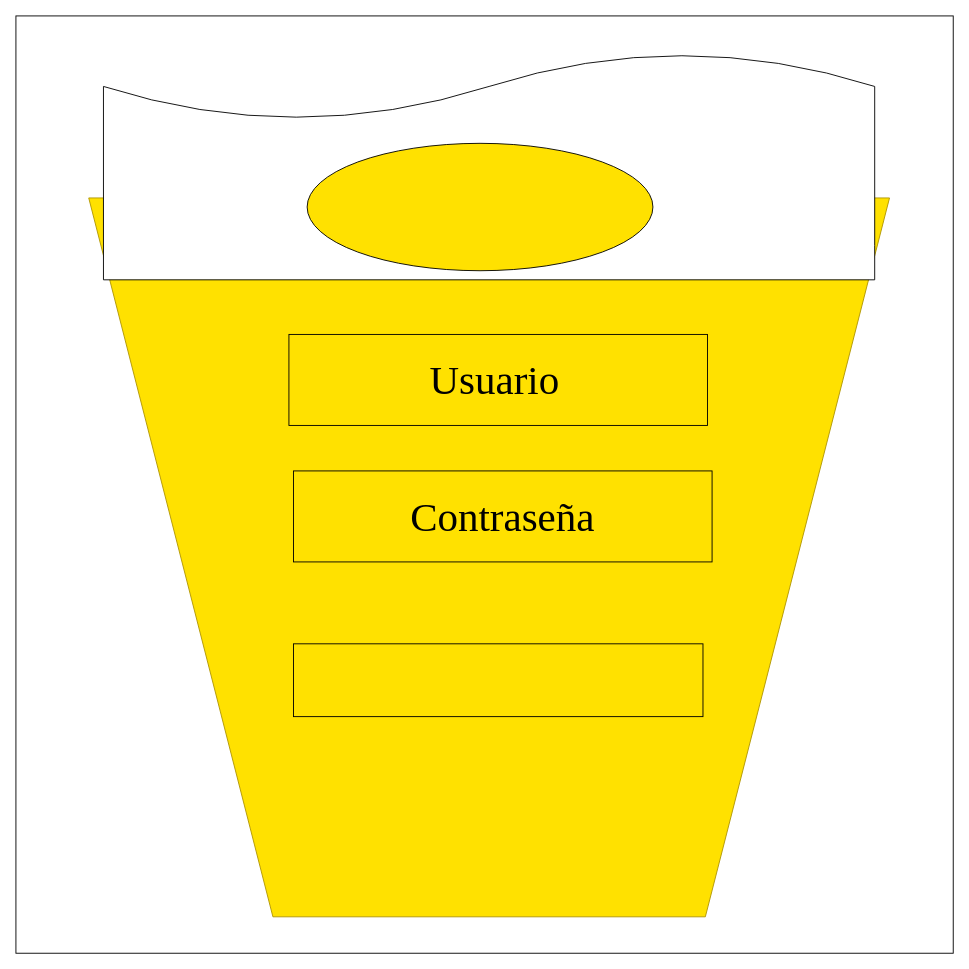
Image size: 969x969. Some labels were removed from this diagram. The centre of each missing label's shape, as x and y in pixels:
Inició de sesión: [498,680]
Logo: [479,206]
